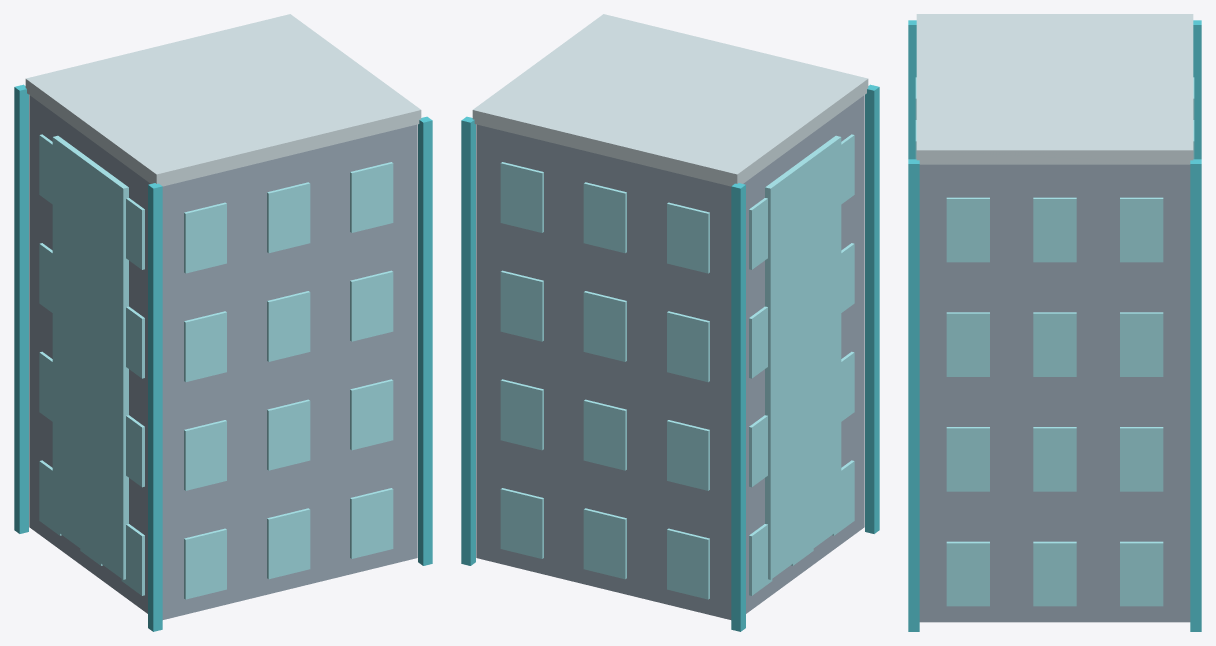
File: warehouse.glb
3 renders of one model, left to right at view 1: azimuth 30°, elevation 25°; view 2: azimuth 150°, elevation 25°; view 3: azimuth 270°, elevation 25°, orthographic. The views are drawn at different scales.
Size of the model in its own units: 7.53 by 11.67 by 6.49.
